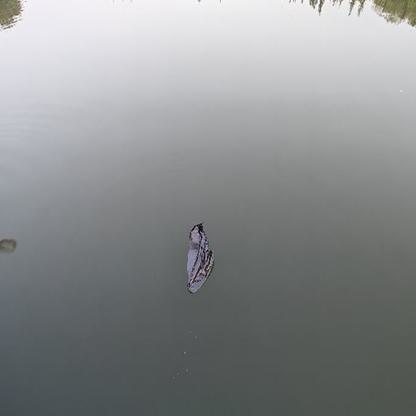plastic bag: (183, 222, 213, 293)
